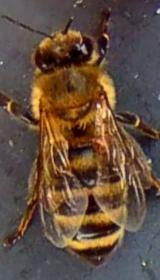varroa_mite: (85, 133, 118, 159)
